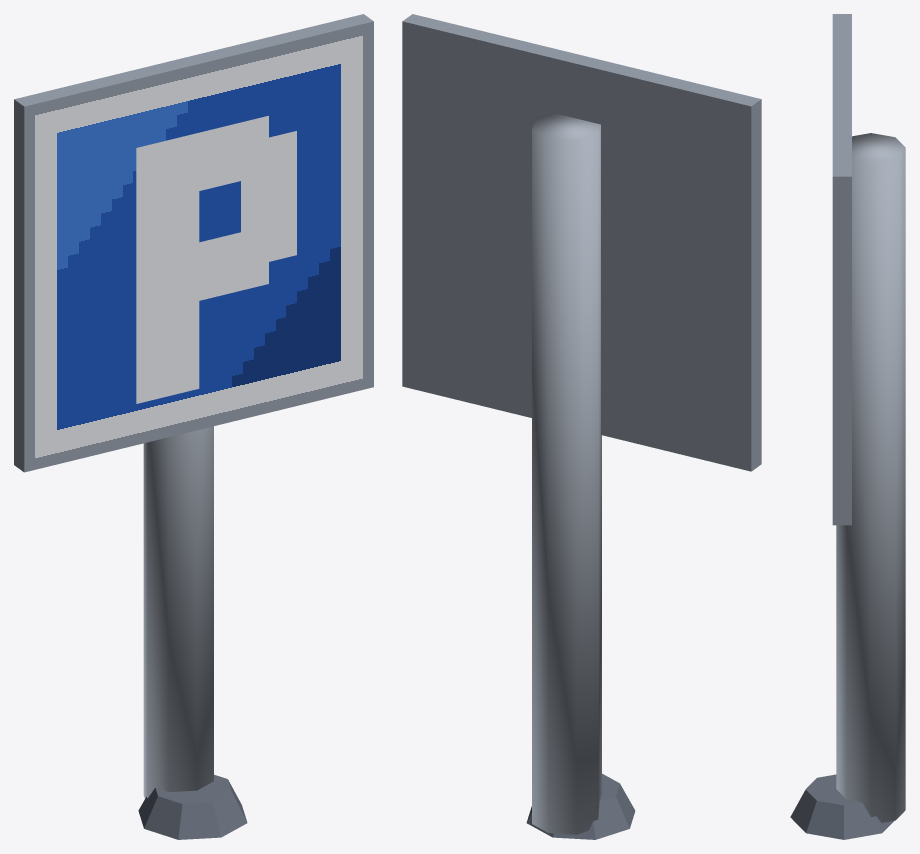
The model's file is around-parkingSign.glb.
3 views of the same model, side by side, from view 1: azimuth 30°, elevation 25°; view 2: azimuth 150°, elevation 25°; view 3: azimuth 270°, elevation 25° (orthographic). The views are drawn at different scales.
Parts seen in each view (by area): view 1: around.parkingSign; view 2: around.parkingSign; view 3: around.parkingSign.
Part boxes in pixels (bbox=[...]): around.parkingSign: bbox=[14, 14, 373, 839]; around.parkingSign: bbox=[402, 14, 761, 839]; around.parkingSign: bbox=[790, 14, 905, 839].
Size of the model in its own units: 0.8695 by 1.8 by 0.2608.
5 materials, 1 textured.
